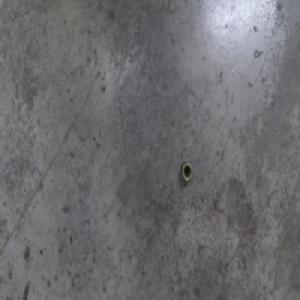Nut: (180, 160, 193, 184)
